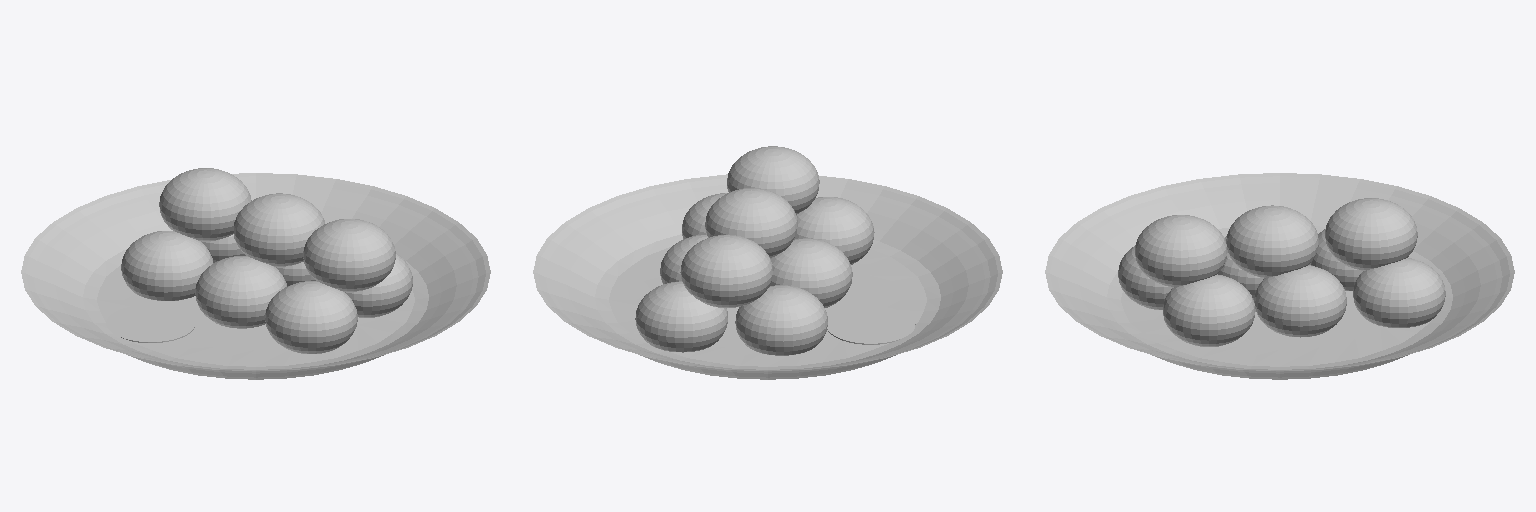
The model's file is kroket nasi.obj.
The picture shows the model from 3 angles: view 1: azimuth 30°, elevation 25°; view 2: azimuth 150°, elevation 25°; view 3: azimuth 270°, elevation 25°; orthographic projection.
Visible parts, largest first — view 1: Cylinder, Sphere.008, Sphere.005, Sphere.006, Sphere.003, Sphere.007, Sphere.004, Cylinder.001, Sphere.002, Sphere; view 2: Cylinder, Sphere.006, Sphere.003, Sphere, Sphere.007, Sphere.008, Sphere.004, Sphere.005, Cylinder.001, Sphere.001, Sphere.002; view 3: Cylinder, Sphere.006, Sphere.008, Sphere.007, Sphere.002, Sphere.001, Sphere, Sphere.005, Sphere.003, Sphere.004.
Boxes of the visible parts, <box> form: Cylinder: <box>21,173,490,379</box>; Sphere.008: <box>303,219,395,291</box>; Sphere.005: <box>265,281,357,353</box>; Sphere.006: <box>159,168,251,240</box>; Sphere.003: <box>121,231,213,300</box>; Sphere.007: <box>233,193,324,266</box>; Sphere.004: <box>195,256,286,328</box>; Cylinder.001: <box>106,304,194,342</box>; Sphere.002: <box>345,253,412,317</box>; Sphere: <box>201,234,245,262</box>; Cylinder: <box>533,174,1002,379</box>; Sphere.006: <box>680,235,772,307</box>; Sphere.003: <box>735,285,827,355</box>; Sphere: <box>635,281,727,352</box>; Sphere.007: <box>705,188,797,257</box>; Sphere.008: <box>727,146,819,214</box>; Sphere.004: <box>769,238,852,307</box>; Sphere.005: <box>794,197,874,264</box>; Cylinder.001: <box>827,306,915,344</box>; Sphere.001: <box>660,235,707,284</box>; Sphere.002: <box>682,193,726,238</box>; Cylinder: <box>1045,173,1514,379</box>; Sphere.006: <box>1325,198,1417,270</box>; Sphere.008: <box>1135,215,1227,287</box>; Sphere.007: <box>1226,205,1318,277</box>; Sphere.002: <box>1163,274,1255,346</box>; Sphere.001: <box>1254,265,1346,337</box>; Sphere: <box>1353,258,1445,327</box>; Sphere.005: <box>1118,246,1171,309</box>; Sphere.003: <box>1309,229,1362,290</box>; Sphere.004: <box>1218,236,1263,299</box>.
Bounding box in the file's own units: 2.31 × 0.6189 × 2.31.